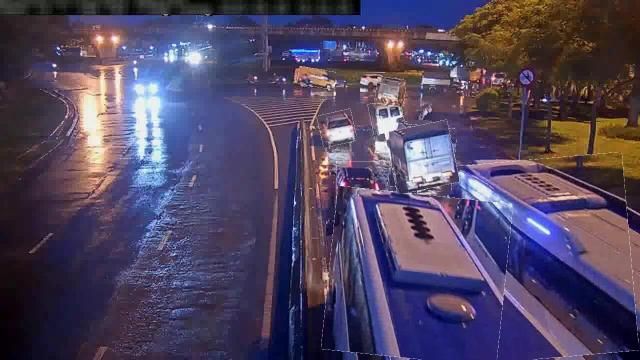Bus: (420, 156, 636, 360), (325, 190, 509, 360), (389, 124, 455, 190), (370, 99, 404, 133)
Car: (336, 161, 378, 201), (318, 110, 356, 146), (298, 68, 336, 88), (356, 73, 386, 87)
Truck: (388, 122, 457, 192), (374, 78, 406, 106)
